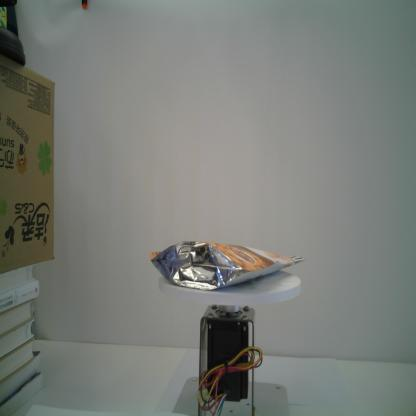Dried Fruit: (149, 239, 305, 292)
